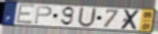7: (103, 9, 120, 29)
9: (59, 6, 76, 27)
E: (15, 3, 37, 25)
P: (33, 5, 53, 25)
U: (77, 6, 98, 29)
X: (119, 9, 142, 31)
